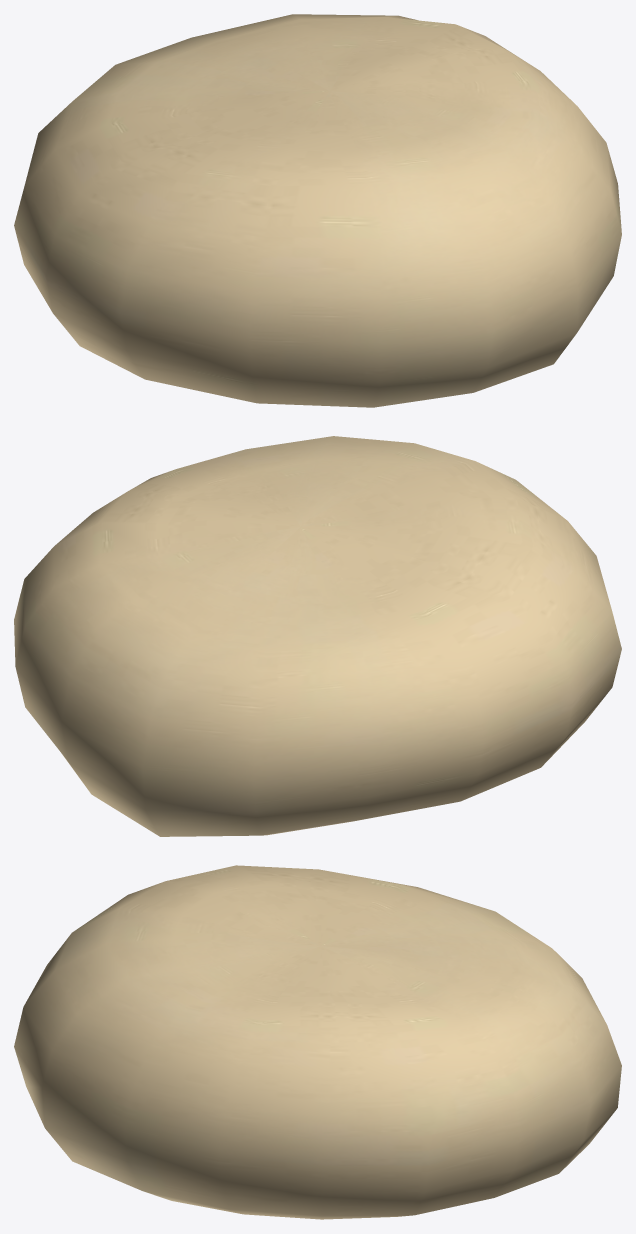
Rendered from shila.fbx.
3 views of the same model, one above another, from view 1: azimuth 30°, elevation 25°; view 2: azimuth 150°, elevation 25°; view 3: azimuth 270°, elevation 25° (orthographic). The views are drawn at different scales.
Parts seen in each view (by area): view 1: shila; view 2: shila; view 3: shila.
Boxes of the visible parts, x1,y1,x2,y2 form: shila: (14,14,621,407); shila: (14,436,621,836); shila: (14,865,621,1219).
Bounding box in the file's own units: 0.6963 × 0.3131 × 0.7542.
1 material, 1 textured.
